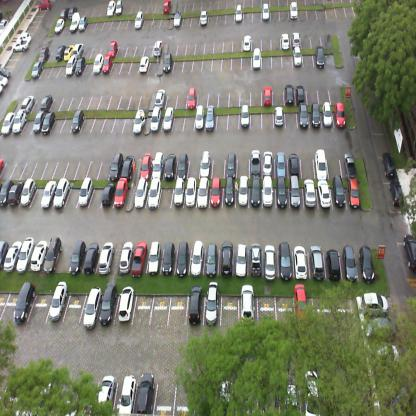car: (384, 382, 413, 415), (94, 374, 116, 415), (80, 287, 102, 325), (46, 290, 69, 326), (372, 345, 399, 375), (96, 288, 118, 324), (16, 234, 36, 272), (137, 373, 155, 415), (364, 317, 394, 342), (354, 240, 374, 277), (119, 374, 137, 415), (114, 289, 136, 322), (13, 289, 36, 320), (304, 368, 319, 415), (362, 290, 389, 316), (145, 240, 165, 275), (324, 242, 342, 280), (202, 293, 221, 329), (3, 238, 22, 274), (52, 175, 72, 209), (240, 282, 255, 326), (41, 239, 60, 273), (68, 240, 87, 274), (76, 176, 94, 210), (144, 177, 162, 211), (293, 243, 311, 277), (30, 239, 48, 273), (187, 292, 204, 327), (82, 240, 100, 273), (340, 241, 356, 278), (278, 244, 295, 278), (310, 242, 326, 278), (219, 378, 234, 416), (160, 241, 177, 274), (174, 243, 191, 276), (294, 282, 308, 322), (203, 241, 218, 278), (170, 176, 186, 210), (188, 242, 204, 276), (263, 243, 279, 277), (40, 177, 57, 209), (20, 176, 37, 208), (344, 176, 362, 206), (234, 241, 249, 277), (113, 177, 129, 210), (132, 240, 148, 273), (217, 242, 233, 275), (404, 230, 416, 274), (100, 178, 116, 210), (96, 244, 113, 274), (248, 240, 263, 274), (316, 177, 332, 208), (388, 178, 404, 209), (314, 148, 330, 178), (118, 242, 134, 272), (381, 149, 397, 179), (8, 178, 24, 207), (133, 177, 146, 212), (341, 149, 357, 177), (0, 177, 14, 209), (284, 381, 297, 415), (330, 179, 345, 208), (197, 179, 211, 210), (288, 180, 304, 207), (288, 147, 302, 177), (235, 179, 249, 209), (262, 178, 276, 208), (276, 179, 290, 209), (209, 180, 223, 209), (276, 148, 289, 179), (304, 178, 317, 209), (122, 155, 138, 180), (71, 106, 85, 134), (332, 101, 347, 127), (109, 155, 125, 179), (12, 110, 28, 134), (248, 150, 262, 177), (1, 110, 16, 135), (184, 179, 196, 210), (133, 108, 147, 134), (149, 154, 163, 180), (42, 109, 56, 135), (138, 155, 153, 179), (263, 147, 275, 177), (249, 179, 261, 209), (150, 106, 163, 133), (164, 152, 178, 177), (199, 152, 213, 177), (224, 179, 236, 208), (174, 153, 188, 177), (224, 150, 236, 178), (32, 109, 45, 134), (65, 52, 78, 77), (0, 236, 9, 272), (314, 43, 326, 70), (92, 49, 104, 76), (194, 107, 206, 133), (31, 56, 44, 80), (162, 107, 174, 132), (238, 105, 250, 130), (101, 52, 113, 76), (75, 54, 87, 78), (311, 102, 322, 128), (321, 104, 334, 126), (186, 86, 197, 112), (274, 105, 286, 128), (298, 105, 310, 128), (262, 84, 274, 107), (40, 92, 54, 111), (162, 51, 173, 75), (137, 54, 150, 74), (68, 11, 80, 32), (12, 39, 30, 53), (205, 108, 216, 130), (295, 82, 306, 104), (292, 45, 302, 69), (252, 47, 262, 71), (21, 94, 34, 112), (284, 82, 294, 105), (280, 30, 290, 53), (154, 88, 166, 107), (234, 3, 244, 25), (134, 8, 144, 30), (72, 40, 84, 58), (77, 14, 89, 32), (291, 28, 302, 47), (152, 39, 163, 58), (38, 44, 50, 61), (199, 8, 209, 28), (56, 42, 66, 62), (64, 42, 75, 60), (172, 9, 182, 28), (289, 0, 298, 21), (108, 39, 119, 56), (66, 4, 77, 21), (54, 16, 64, 34), (262, 1, 270, 22), (17, 30, 31, 42), (0, 65, 12, 79), (37, 0, 52, 11), (161, 0, 171, 16), (242, 35, 251, 52), (106, 0, 116, 15), (0, 74, 10, 88), (115, 0, 123, 15), (60, 5, 69, 18)
